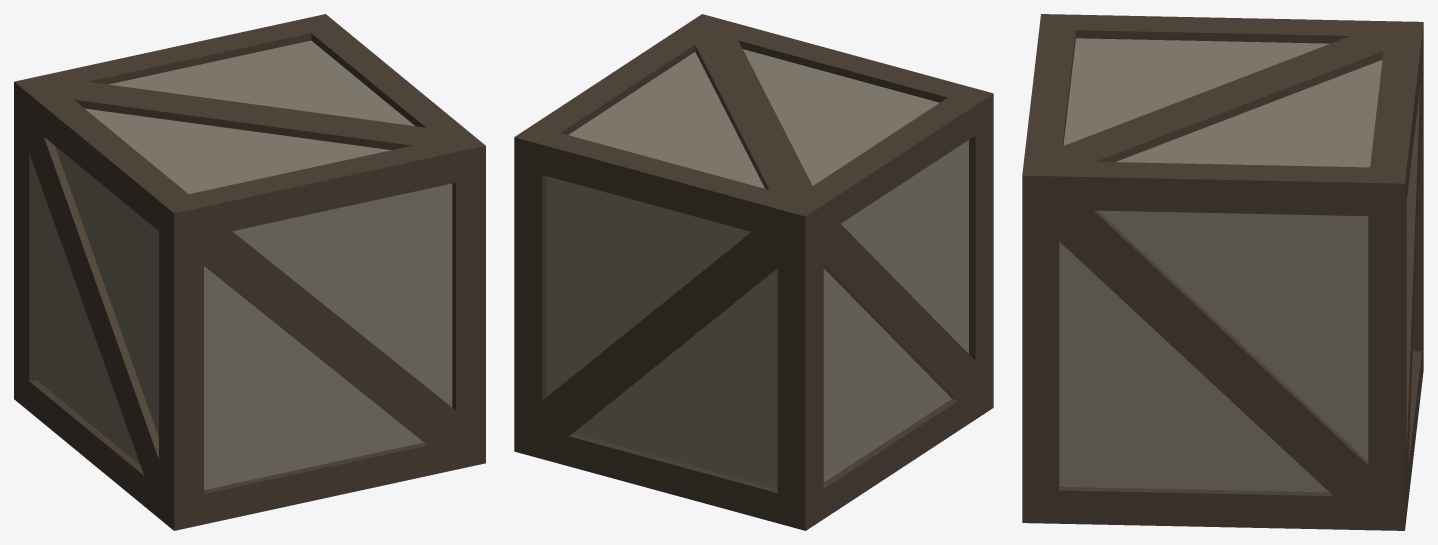
File: WoodenBox.fbx
3 views of the same model, side by side, from view 1: azimuth 30°, elevation 25°; view 2: azimuth 150°, elevation 25°; view 3: azimuth 270°, elevation 25° (orthographic). The views are drawn at different scales.
Parts seen in each view (by area): view 1: WoodenBox; view 2: WoodenBox; view 3: WoodenBox.
Part boxes in pixels (x1,y1,x2,y2): WoodenBox: [14, 14, 485, 530]; WoodenBox: [514, 14, 993, 530]; WoodenBox: [1022, 14, 1423, 530].
Bounding box in the file's own units: 64.33 × 61.39 × 64.33.
